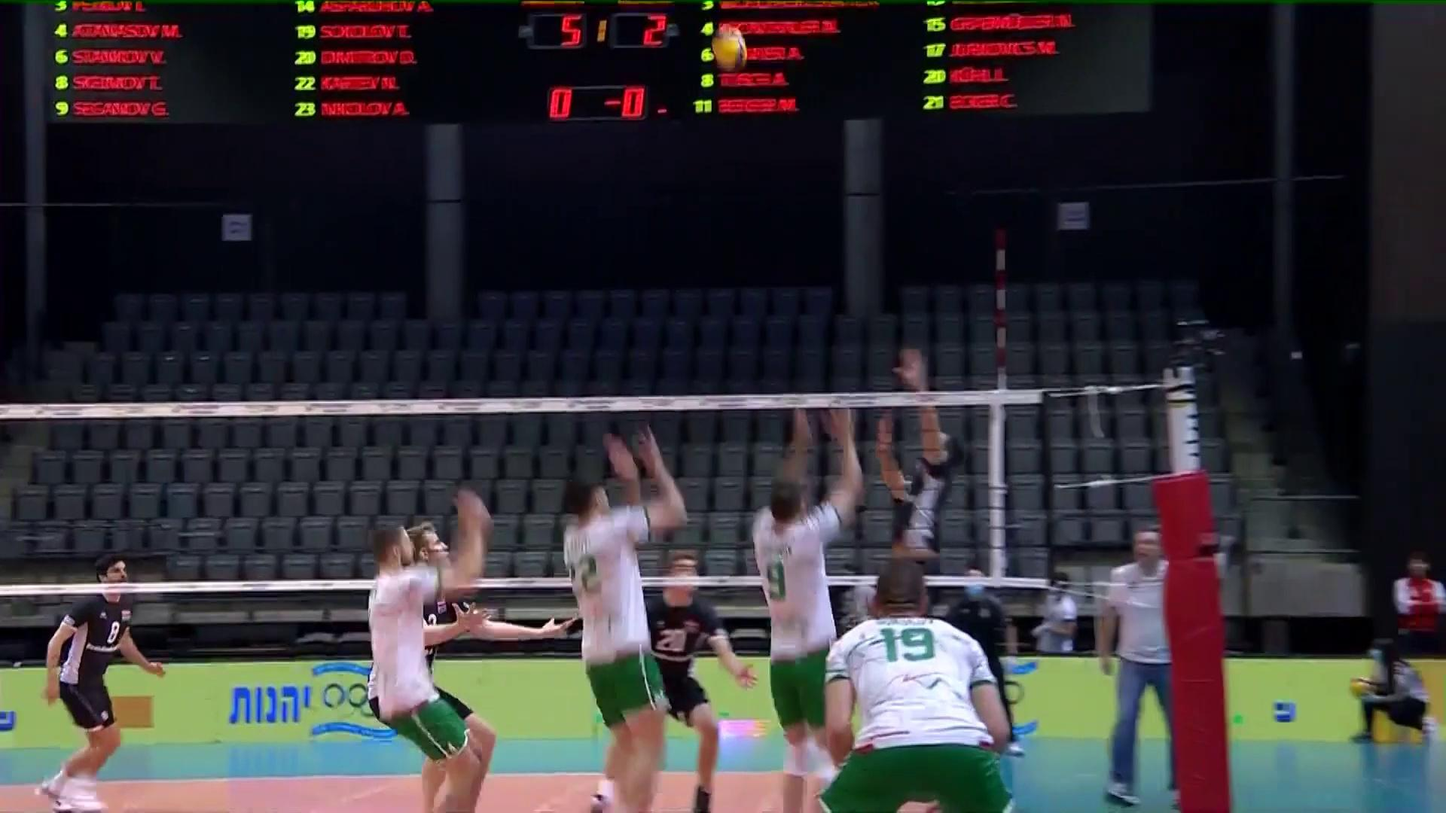ball: (713, 30, 748, 72)
